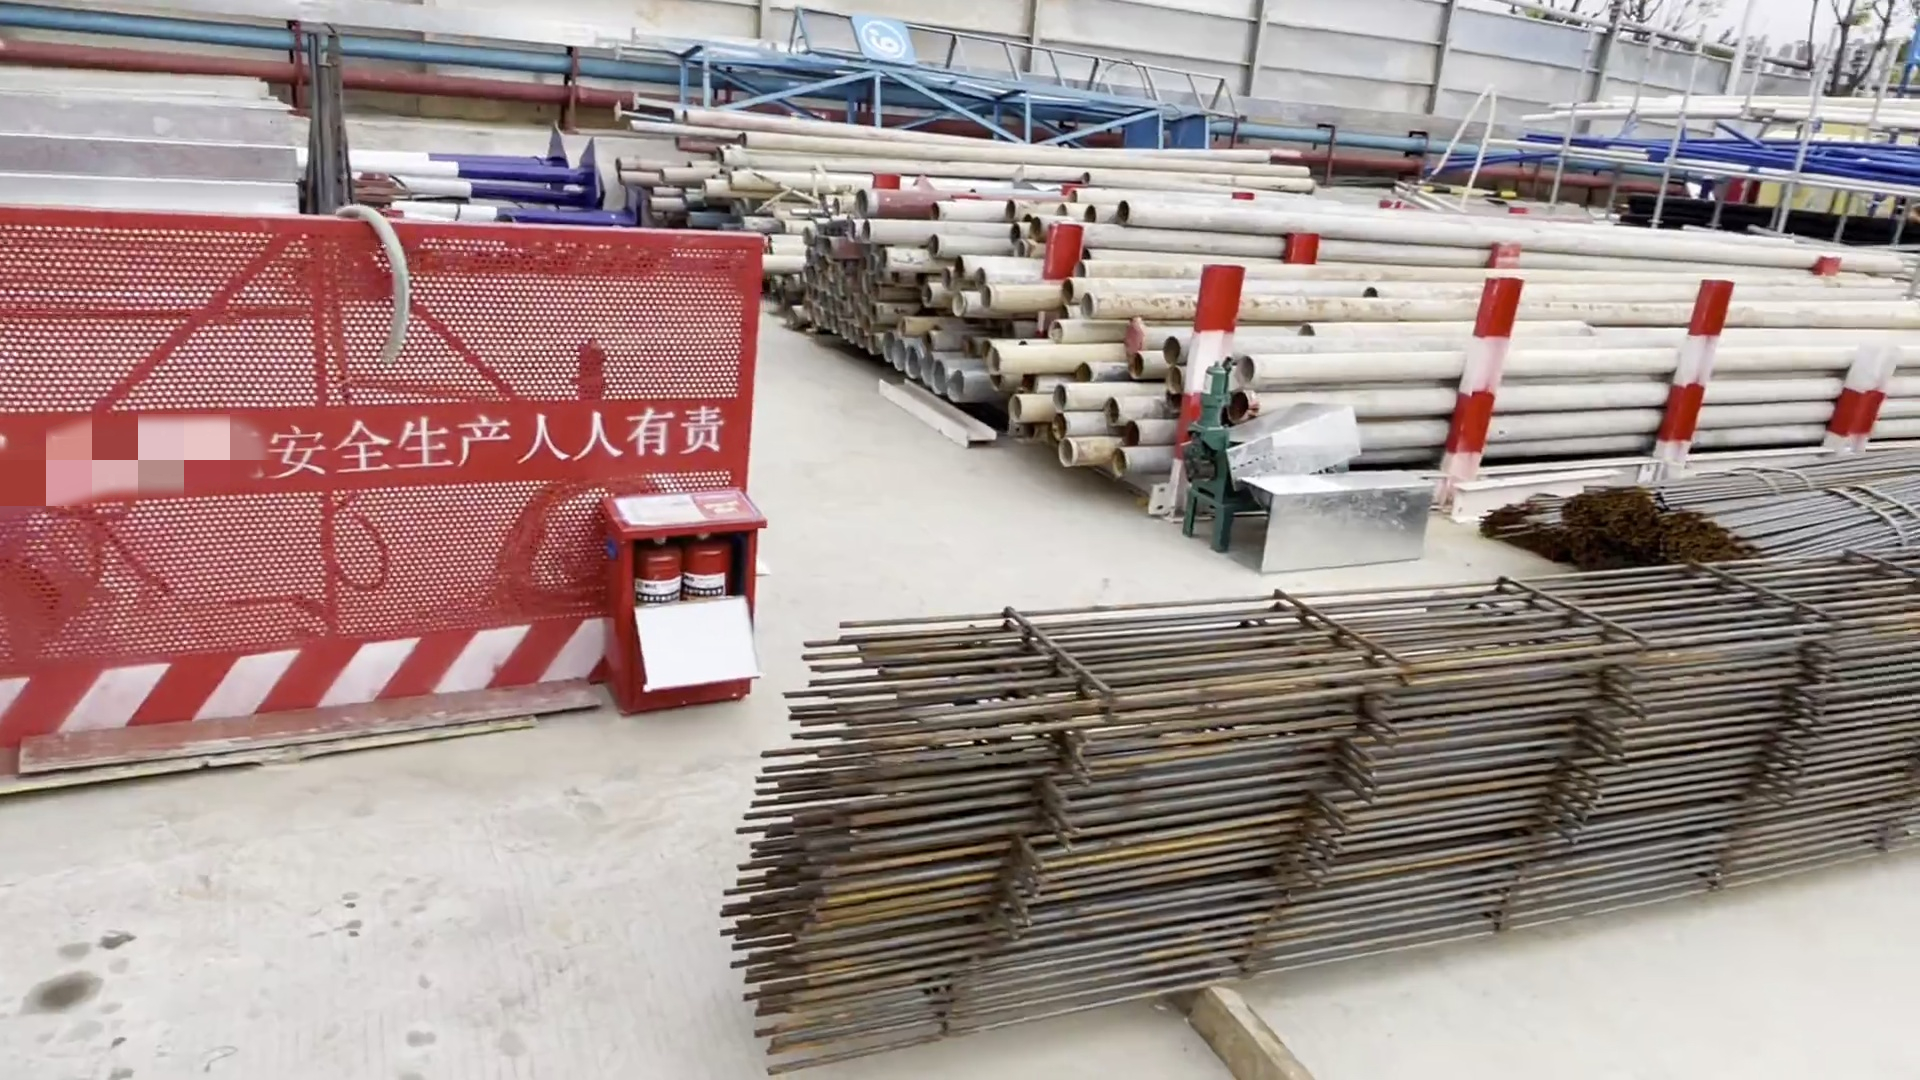fence: (5, 203, 748, 723)
rebar: (771, 596, 1908, 1051), (1493, 429, 1916, 574)
